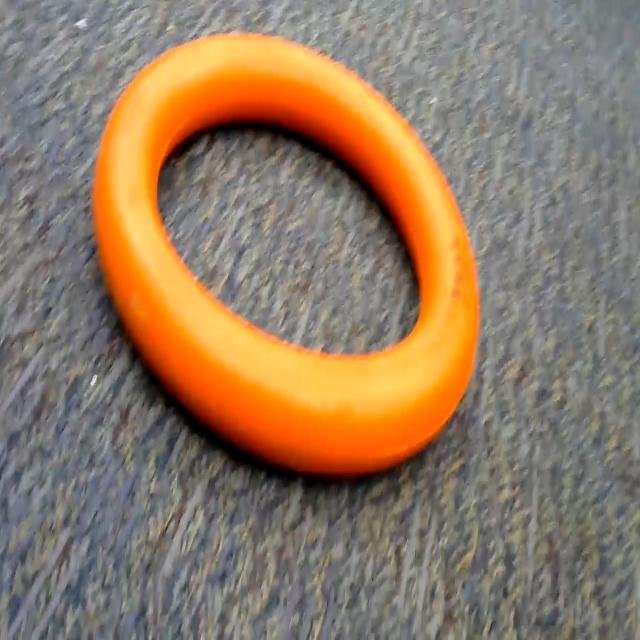note: (85, 23, 497, 504)
